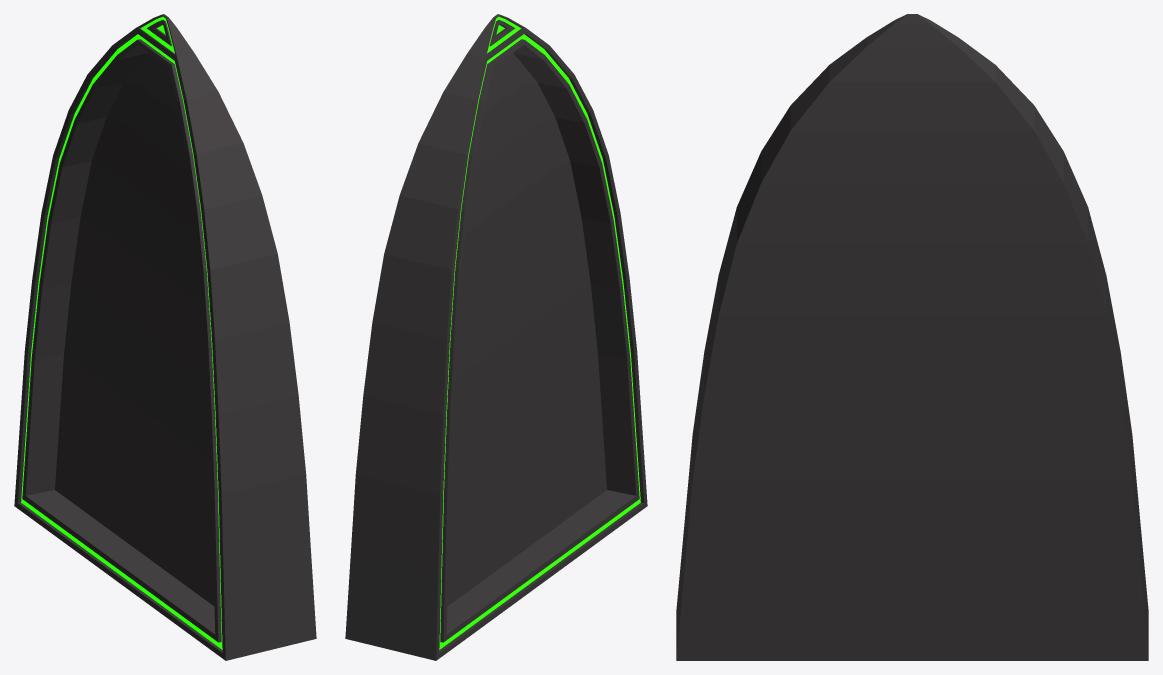
The model's file is portal_green.fbx.
3 renders of one model, left to right at view 1: azimuth 30°, elevation 25°; view 2: azimuth 150°, elevation 25°; view 3: azimuth 270°, elevation 25°, orthographic. The views are drawn at different scales.
Parts seen in each view (by area): view 1: portal green; view 2: portal green; view 3: portal green.
Part boxes in pixels (left/top/right/bottom): portal green: left=14, top=14, right=316, bottom=660; portal green: left=345, top=14, right=647, bottom=660; portal green: left=676, top=14, right=1148, bottom=660.
Size of the model in its own units: 49.58 by 290 by 200.
